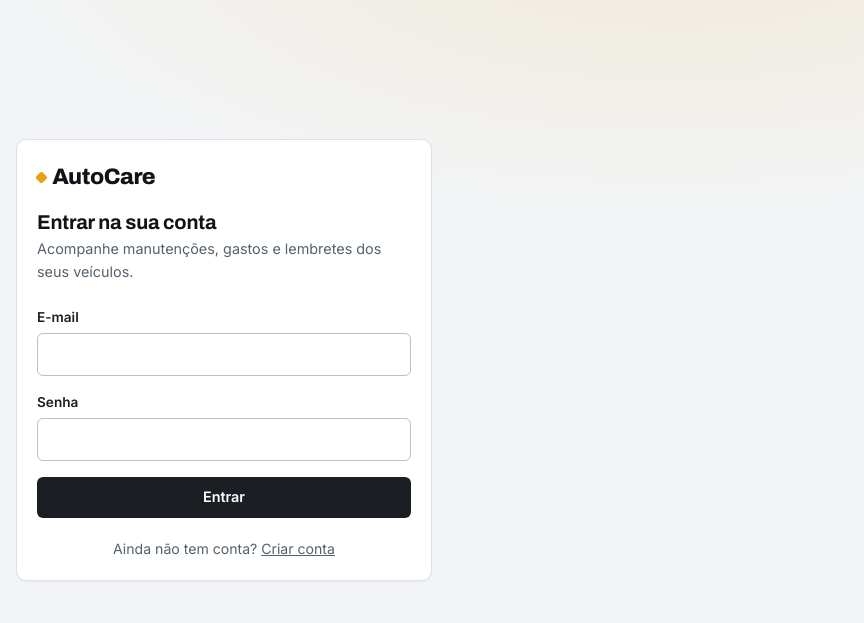
Test: LoginPage › blocks submission and reports both fields when the form is empty
The image size is (864, 623).
Click the button "Entrar" at (224, 497), box [37,476,411,518]
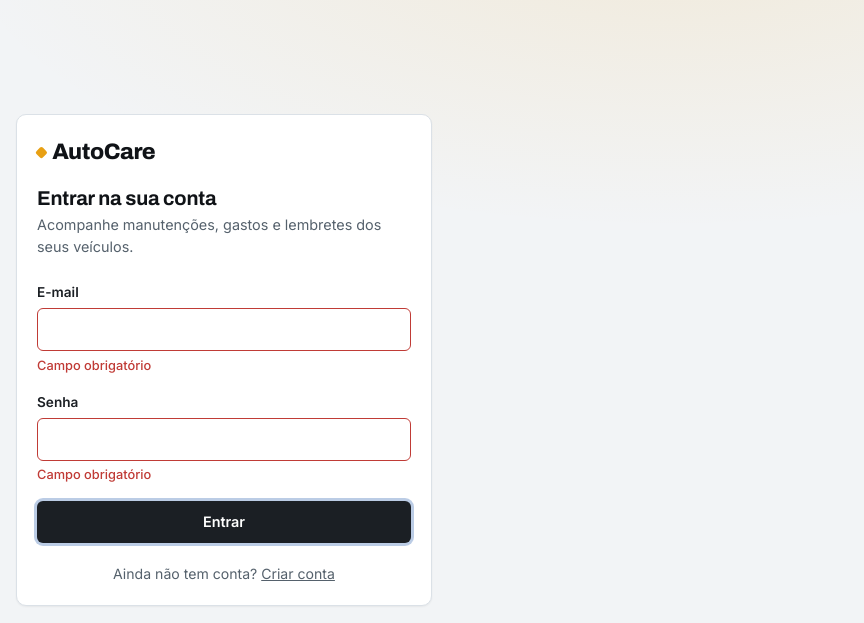
Expected: the text "Campo obrigatório" is shown 2 times, [37,358,151,373]; [37,467,151,482]
